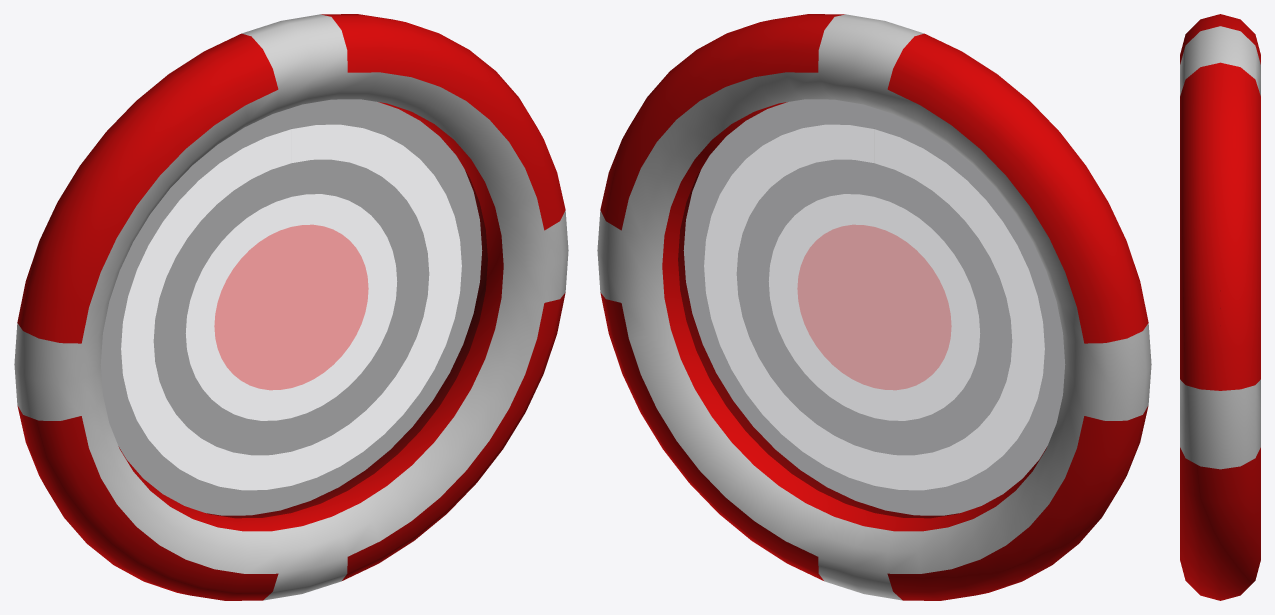
Rendered from TargetRing.fbx.
The picture shows the model from 3 angles, left to right: view 1: azimuth 30°, elevation 25°; view 2: azimuth 150°, elevation 25°; view 3: azimuth 270°, elevation 25°; orthographic projection. The views are drawn at different scales.
Parts seen in each view (by area): view 1: TargetRing Center, TargetRing Outer Lights, TargetRing Outer; view 2: TargetRing Center, TargetRing Outer Lights, TargetRing Outer; view 3: TargetRing Outer Lights, TargetRing Outer.
Part boxes in pixels (x1,y1,x2,y2): TargetRing Center: [101, 99, 487, 517]; TargetRing Outer Lights: [17, 14, 565, 600]; TargetRing Outer: [14, 14, 568, 600]; TargetRing Center: [678, 99, 1064, 517]; TargetRing Outer Lights: [600, 14, 1148, 600]; TargetRing Outer: [597, 14, 1151, 600]; TargetRing Outer Lights: [1180, 14, 1260, 600]; TargetRing Outer: [1180, 26, 1260, 469].
Size of what is drawn, in the model's own units: 44.52 by 44.52 by 6.12.
